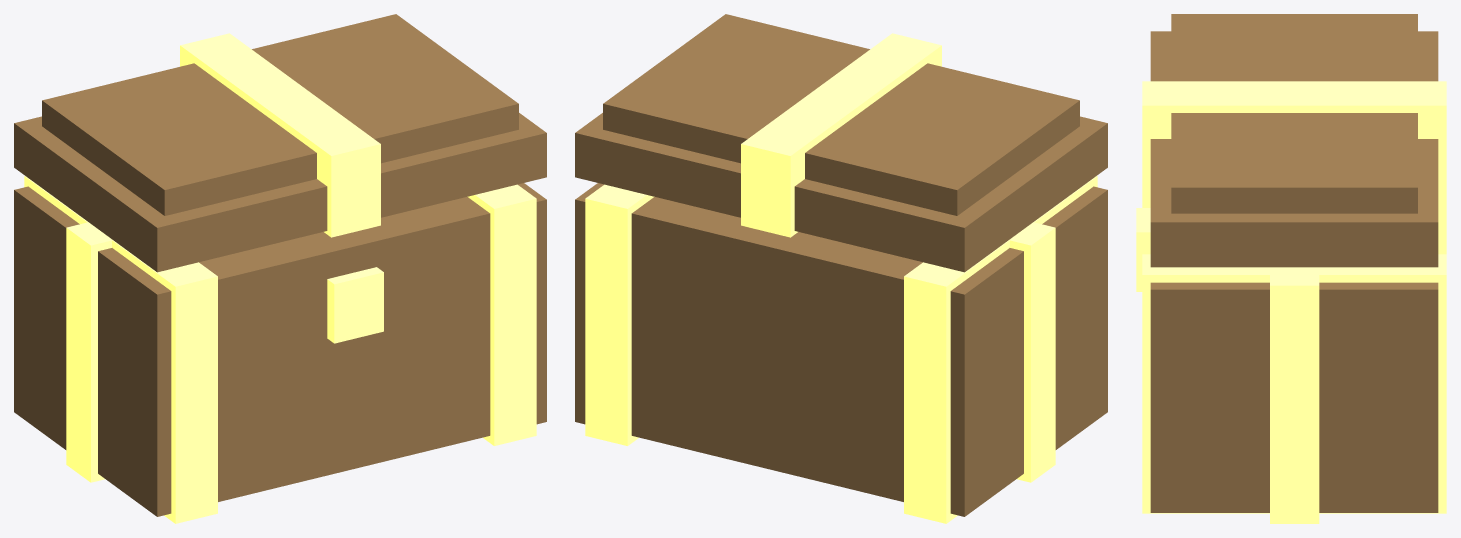
The model's file is chest.glb.
3 views of the same model, side by side, from view 1: azimuth 30°, elevation 25°; view 2: azimuth 150°, elevation 25°; view 3: azimuth 270°, elevation 25° (orthographic).
Visible parts, largest first — view 1: Chest, Lid; view 2: Chest, Lid; view 3: Chest, Lid.
Boxes of the visible parts, x1,y1,x2,y2 form: Chest: (14, 176, 546, 523); Lid: (14, 14, 546, 272); Chest: (575, 176, 1107, 523); Lid: (575, 14, 1107, 272); Chest: (1136, 187, 1446, 523); Lid: (1142, 14, 1446, 267).
Size of the model in its own units: 1.14 by 0.89 by 0.755.
